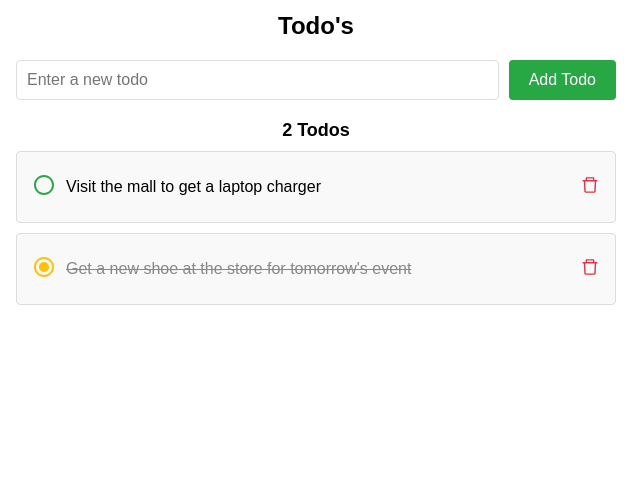
Test: App › if delete button is working
The image size is (633, 486).
Type "Send a mail to Dad" into the field with placeholder "Enter a new todo". click: coordinates (257, 80)
box: [16,60,499,100]
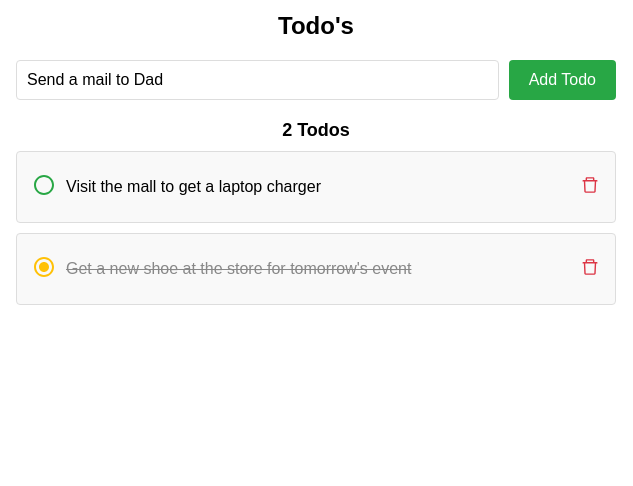
Click the button "Add Todo". click: coordinates (562, 80)
box: [509,60,616,100]
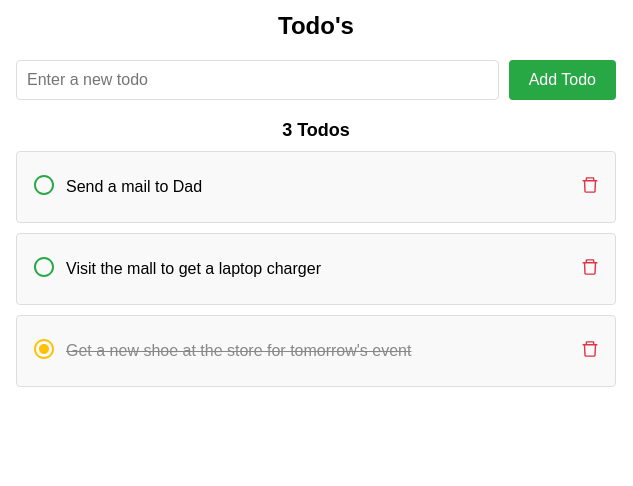
Type "Get some gifts for Bae" into the field with placeholder "Enter a new todo". click: coordinates (257, 80)
box: [16,60,499,100]
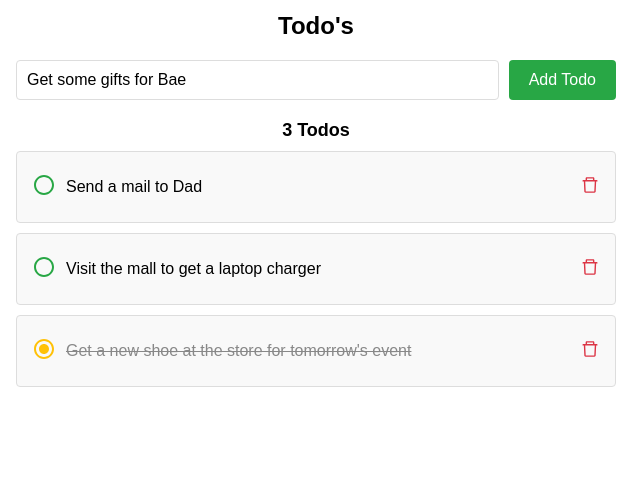
Click the button "Add Todo". click: coordinates (562, 80)
box: [509,60,616,100]
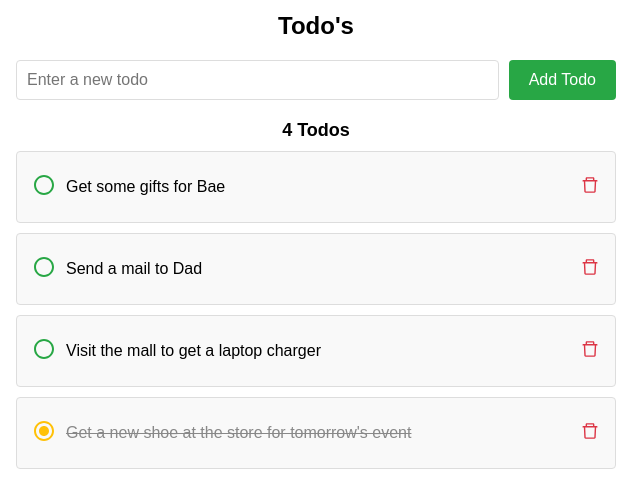
Click the 2nd element with test id "delete". click: coordinates (590, 269)
box: [580,257,600,281]
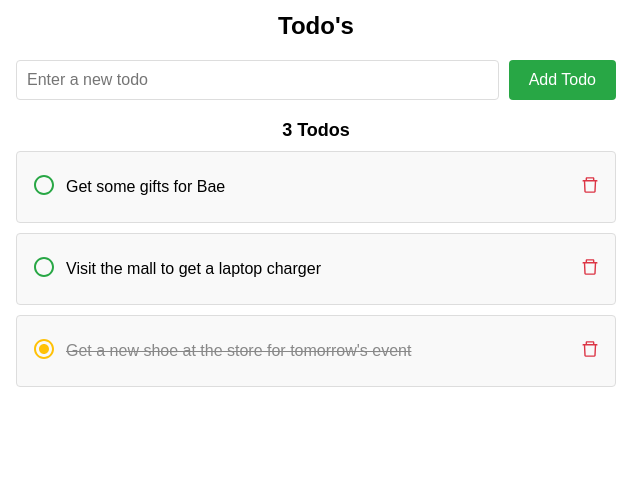
Result: the number of elements with test id "todo" is 3 at [16,151,616,223]; [16,233,616,305]; [16,315,616,387]
